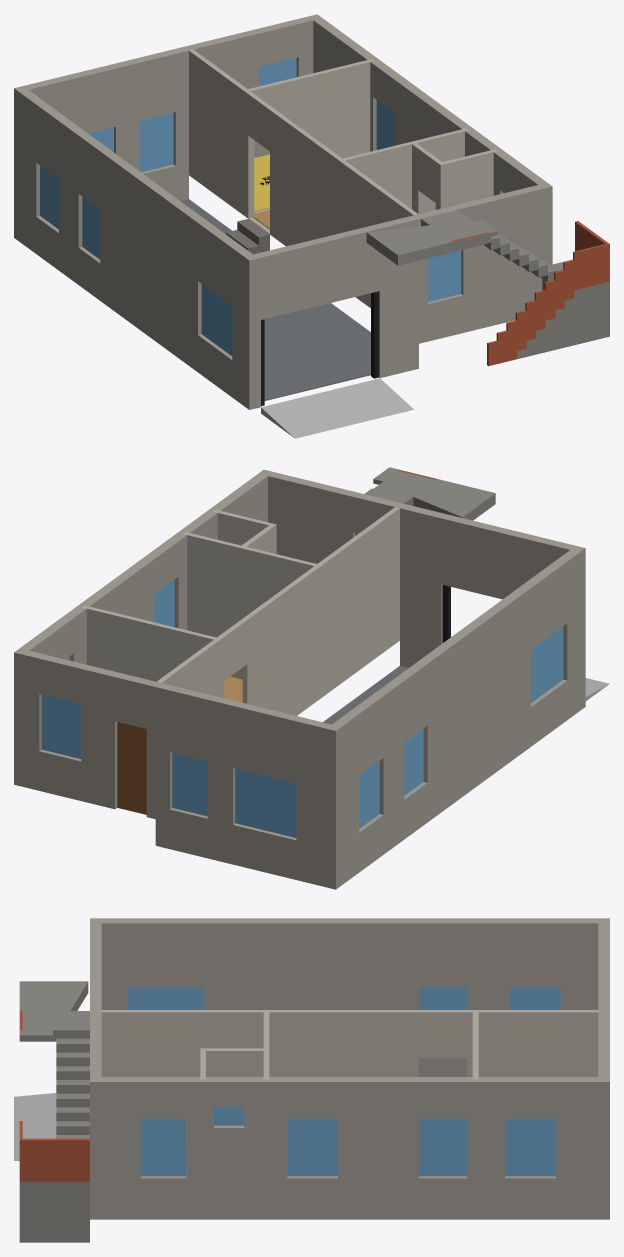
File: 05_ground_floor.glb
The picture shows the model from 3 angles, top to bottom: view 1: azimuth 30°, elevation 25°; view 2: azimuth 150°, elevation 25°; view 3: azimuth 270°, elevation 25°; orthographic projection. The views are drawn at different scales.
Parts seen in each view (by area): view 1: GF_Wall_Exterior, GF_Wall_Interior, GF_Stair_Flight, GF_Glass, GF_Floor_Parking, GF_Stair_Guard, GF_Ramp, GF_Gate_Steel, GF_Entrance_Steps, GF_Floor_Kitchen; view 2: GF_Wall_Exterior, GF_Wall_Interior, GF_Glass, GF_Stair_Flight, GF_Door_Wood, GF_Floor_Parking; view 3: GF_Wall_Exterior, GF_Wall_Interior, GF_Glass, GF_Stair_Flight, GF_Stair_Guard, GF_Ramp.
Part boxes in pixels (left/top/right/bottom): GF_Wall_Exterior: left=14, top=14, right=552, bottom=409; GF_Wall_Interior: left=189, top=49, right=497, bottom=308; GF_Stair_Flight: left=366, top=210, right=609, bottom=361; GF_Glass: left=40, top=57, right=461, bottom=355; GF_Floor_Parking: left=180, top=199, right=370, bottom=400; GF_Stair_Guard: left=452, top=221, right=609, bottom=366; GF_Ramp: left=261, top=378, right=413, bottom=438; GF_Gate_Steel: left=261, top=291, right=378, bottom=406; GF_Entrance_Steps: left=226, top=219, right=269, bottom=254; GF_Floor_Kitchen: left=254, top=154, right=269, bottom=211; GF_Wall_Exterior: left=14, top=469, right=585, bottom=889; GF_Wall_Interior: left=82, top=507, right=399, bottom=715; GF_Glass: left=41, top=532, right=563, bottom=837; GF_Stair_Flight: left=364, top=467, right=495, bottom=520; GF_Door_Wood: left=117, top=722, right=146, bottom=814; GF_Floor_Parking: left=323, top=665, right=408, bottom=724; GF_Wall_Exterior: left=90, top=918, right=609, bottom=1219; GF_Wall_Interior: left=101, top=1010, right=598, bottom=1148; GF_Glass: left=128, top=987, right=560, bottom=1176; GF_Stair_Flight: left=19, top=981, right=89, bottom=1242; GF_Stair_Guard: left=19, top=1011, right=89, bottom=1181; GF_Ramp: left=14, top=1093, right=56, bottom=1160.
Bounding box in the file's own units: 8.28 × 3.75 × 11.77.
